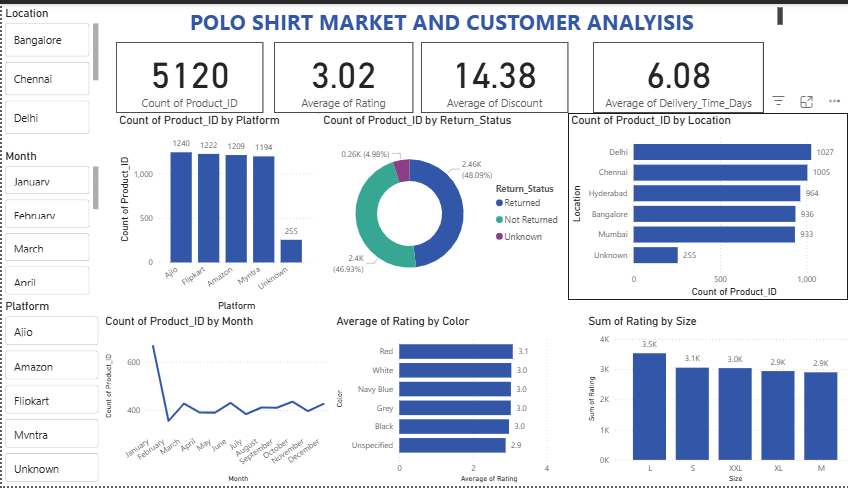

Layout of this report page (visuals, bound fields, positions):
{"tool":"powerbi","page":{"name":"Page 1","canvas":[1280,720],"ordinal":0},"visuals":[{"type":"textbox","box":[169.7,0,1001.2,57.1],"z":0},{"type":"card","fields":{"Values":["CountNonNull(polo_tshirt_cleaned_dataset.Product_ID)"]},"box":[170.3,56.8,219.6,106.1],"z":1000},{"type":"card","fields":{"Values":["Avg(polo_tshirt_cleaned_dataset.Rating)"]},"box":[406.3,56.8,207.6,106.1],"z":2000},{"type":"card","fields":{"Values":["Avg(polo_tshirt_cleaned_dataset.Discount)"]},"box":[625.9,56.8,219.6,106.1],"z":3000},{"type":"card","fields":{"Values":["Avg(polo_tshirt_cleaned_dataset.Delivery_Time_Days)"]},"box":[882.8,56.8,255.4,106.1],"z":4000},{"type":"columnChart","fields":{"Category":["polo_tshirt_cleaned_dataset.Platform"],"Y":["CountNonNull(polo_tshirt_cleaned_dataset.Product_ID)"]},"box":[170.3,162.8,300.2,300.2],"z":5000},{"type":"donutChart","fields":{"Category":["polo_tshirt_cleaned_dataset.Return_Status"],"Y":["CountNonNull(polo_tshirt_cleaned_dataset.Product_ID)"]},"box":[475,162.8,370.5,279.3],"z":6000},{"type":"lineChart","fields":{"Y":["CountNonNull(polo_tshirt_cleaned_dataset.Product_ID)"],"Category":["polo_tshirt_cleaned_dataset.Review_Date.Variation.Date Hierarchy.Month"]},"box":[149.4,463.1,345.1,256.9],"z":7000},{"type":"clusteredBarChart","fields":{"Category":["polo_tshirt_cleaned_dataset.Location"],"Y":["CountNonNull(polo_tshirt_cleaned_dataset.Product_ID)"]},"box":[845.5,162.8,418.3,279.3],"z":8000},{"type":"clusteredBarChart","fields":{"Category":["polo_tshirt_cleaned_dataset.Color"],"Y":["Avg(polo_tshirt_cleaned_dataset.Rating)"]},"box":[494.4,463.1,376.4,256.9],"z":9000},{"type":"columnChart","fields":{"Y":["Sum(polo_tshirt_cleaned_dataset.Rating)"],"Category":["polo_tshirt_cleaned_dataset.Size"]},"box":[870.9,463.1,409.3,256.9],"z":10000},{"type":"advancedSlicerVisual","fields":{"Values":["polo_tshirt_cleaned_dataset.Location"]},"box":[0,3,149.4,198.7],"z":11000},{"type":"advancedSlicerVisual","fields":{"Values":["polo_tshirt_cleaned_dataset.Review_Date.Variation.Date Hierarchy.Month"]},"box":[0,216.6,149.4,225.6],"z":12000},{"type":"advancedSlicerVisual","fields":{"Values":["polo_tshirt_cleaned_dataset.Platform"]},"box":[0,440.7,149.4,279.3],"z":13000}]}

Visuals, with their boxes on the page's 1280x720 design canvas (x1, y1, x2, y2). These are canvas units, not pixel positions in the 848x492 screenshot, which may show the page scaled, cropped or inside an application window:
textbox: locate(170, 0, 1171, 57)
card - CountNonNull(polo_tshirt_cleaned_dataset.Product_ID): locate(170, 57, 390, 163)
card - Avg(polo_tshirt_cleaned_dataset.Rating): locate(406, 57, 614, 163)
card - Avg(polo_tshirt_cleaned_dataset.Discount): locate(626, 57, 846, 163)
card - Avg(polo_tshirt_cleaned_dataset.Delivery_Time_Days): locate(883, 57, 1138, 163)
columnChart - polo_tshirt_cleaned_dataset.Platform x CountNonNull(polo_tshirt_cleaned_dataset.Product_ID): locate(170, 163, 470, 463)
donutChart - polo_tshirt_cleaned_dataset.Return_Status x CountNonNull(polo_tshirt_cleaned_dataset.Product_ID): locate(475, 163, 846, 442)
lineChart - CountNonNull(polo_tshirt_cleaned_dataset.Product_ID) x polo_tshirt_cleaned_dataset.Review_Date.Variation.Date Hierarchy.Month: locate(149, 463, 494, 720)
clusteredBarChart - polo_tshirt_cleaned_dataset.Location x CountNonNull(polo_tshirt_cleaned_dataset.Product_ID): locate(846, 163, 1264, 442)
clusteredBarChart - polo_tshirt_cleaned_dataset.Color x Avg(polo_tshirt_cleaned_dataset.Rating): locate(494, 463, 871, 720)
columnChart - Sum(polo_tshirt_cleaned_dataset.Rating) x polo_tshirt_cleaned_dataset.Size: locate(871, 463, 1280, 720)
advancedSlicerVisual - polo_tshirt_cleaned_dataset.Location: locate(0, 3, 149, 202)
advancedSlicerVisual - polo_tshirt_cleaned_dataset.Review_Date.Variation.Date Hierarchy.Month: locate(0, 217, 149, 442)
advancedSlicerVisual - polo_tshirt_cleaned_dataset.Platform: locate(0, 441, 149, 720)
